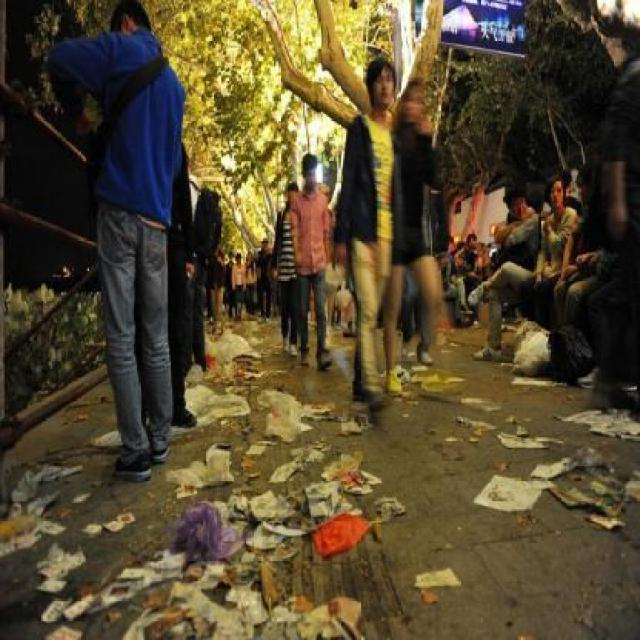garbage: (113, 549, 343, 639), (166, 493, 386, 572), (474, 451, 640, 542), (208, 329, 247, 422)
